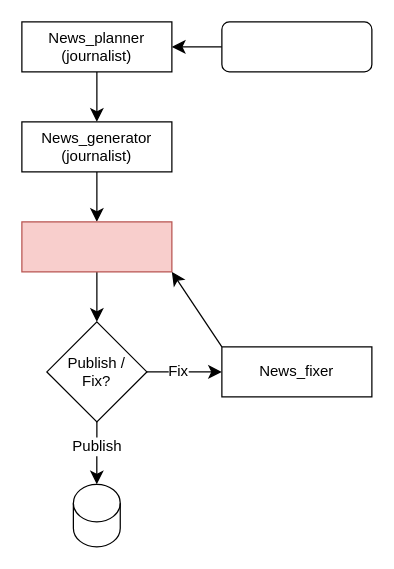
The diagram is 394 pixels wide and 569 high, and some of its shapes have lost their labels. Here are the shapes that lost their labels. From the top down, the centre of each, then its label:
At (296,46): "News".
At (96,246): "News_validation (editor_in_chief)".
